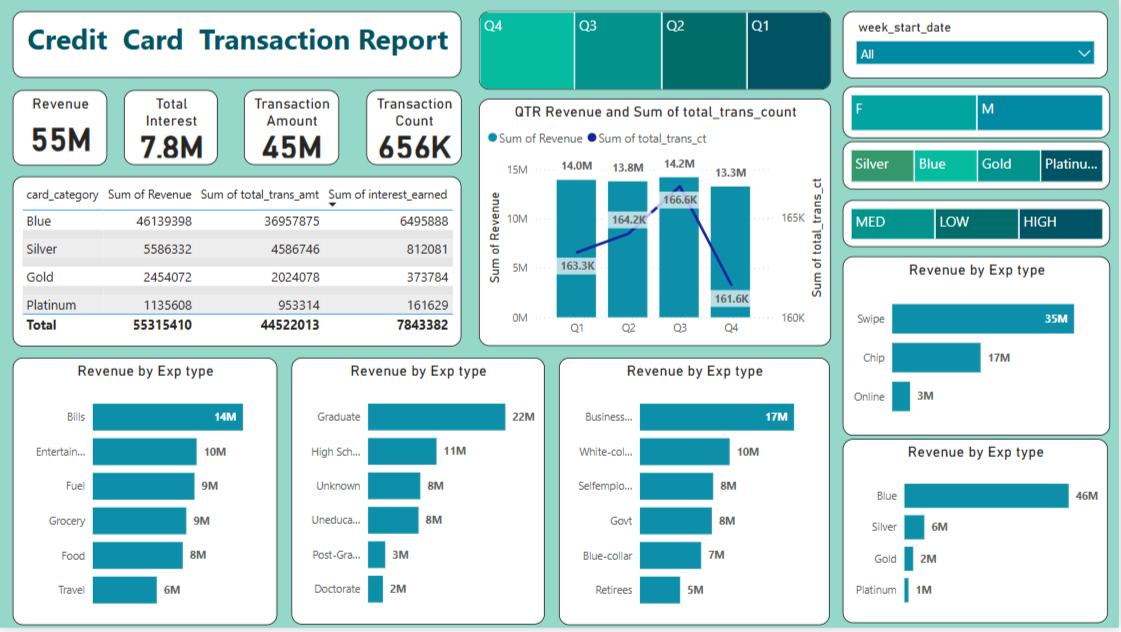

The dashboard page shown, as its layout file describes it:
{"tool":"powerbi","page":{"name":"Page 2","canvas":[1280,720],"ordinal":1},"visuals":[{"type":"textbox","box":[15.7,15.7,512.7,76],"z":0},{"type":"lineStackedColumnComboChart","title":"QTR Revenue and Sum of total_trans_count","fields":{"Category":["public cc_detail.qtr"],"Y":["Sum(public cc_detail.Revenue)"],"Y2":["Sum(public cc_detail.total_trans_ct)"]},"box":[548.2,115.4,402.5,282.8],"z":1000},{"type":"barChart","title":"Revenue by Exp type","fields":{"Y":["Sum(public cc_detail.Revenue)"],"Category":["public cc_detail.exp_type"]},"box":[15.5,411.9,302.4,306],"z":2000},{"type":"barChart","title":"Revenue by Exp type","fields":{"Y":["Sum(public cc_detail.Revenue)"],"Category":["public cust_detail.education_level"]},"box":[334.5,411.9,289.3,304.8],"z":3000},{"type":"barChart","title":"Revenue by Exp type","fields":{"Y":["Sum(public cc_detail.Revenue)"],"Category":["public cust_detail.customer_job"]},"box":[640.5,411.9,309.5,306],"z":4000},{"type":"barChart","title":"Revenue by Exp type","fields":{"Y":["Sum(public cc_detail.Revenue)"],"Category":["public cc_detail.card_category"]},"box":[963.8,505,303,210.6],"z":5000},{"type":"barChart","title":"Revenue by Exp type","fields":{"Y":["Sum(public cc_detail.Revenue)"],"Category":["public cc_detail.use_chip"]},"box":[963.8,295.8,305.9,204.9],"z":6000},{"type":"tableEx","fields":{"Values":["public cc_detail.card_category","Sum(public cc_detail.Revenue)","Sum(public cc_detail.total_trans_amt)","Sum(public cc_detail.interest_earned)"]},"box":[15.7,203.9,512.7,194.2],"z":7000},{"type":"card","title":"Revenue","fields":{"Values":["Sum(public cc_detail.Revenue)"]},"box":[15.9,105.3,108.2,86.6],"z":8000},{"type":"card","title":"Transaction Amount","fields":{"Values":["Sum(public cc_detail.total_trans_amt)"]},"box":[279.9,106.2,108.6,85.7],"z":9000},{"type":"card","title":"Total Interest","fields":{"Values":["Sum(public cc_detail.interest_earned)"]},"box":[142.4,106.2,107.4,85.7],"z":10000},{"type":"card","title":"Transaction Count","fields":{"Values":["Sum(public cc_detail.total_trans_ct)"]},"box":[419.8,106.2,108.6,85.7],"z":11000},{"type":"slicer","fields":{"Values":["public cc_detail.week_start_date"]},"box":[963.8,15.9,303,76.5],"z":12000},{"type":"treemap","fields":{"Group":["public cc_detail.qtr"],"Values":["Avg(public cc_detail.client_num)"]},"box":[548.2,15.9,402.5,89.5],"z":13000},{"type":"treemap","fields":{"Values":["Avg(public cc_detail.client_num)"],"Group":["public cust_detail.gender"]},"box":[963.8,101,305.9,59.2],"z":14000},{"type":"treemap","fields":{"Values":["Avg(public cc_detail.client_num)"],"Group":["public cc_detail.card_category"]},"box":[963.8,164.5,305.9,54.8],"z":15000},{"type":"treemap","fields":{"Values":["Avg(public cc_detail.client_num)"],"Group":["public cust_detail.Income Grp"]},"box":[963.8,230.8,305.9,53.4],"z":16000}]}

Visuals, with their boxes in screenshot pixels (x1, y1, x2, y2), scaled from the page's 1280x720 canvas onto the 1121x632 screenshot:
textbox: <box>14,14,463,80</box>
"QTR Revenue and Sum of total_trans_count" lineStackedColumnComboChart: <box>480,101,833,350</box>
"Revenue by Exp type" barChart: <box>14,362,278,630</box>
"Revenue by Exp type" barChart: <box>293,362,546,629</box>
"Revenue by Exp type" barChart: <box>561,362,832,630</box>
"Revenue by Exp type" barChart: <box>844,443,1109,628</box>
"Revenue by Exp type" barChart: <box>844,260,1112,440</box>
tableEx - public cc_detail.card_category x Sum(public cc_detail.Revenue): <box>14,179,463,349</box>
"Revenue" card: <box>14,92,109,168</box>
"Transaction Amount" card: <box>245,93,340,168</box>
"Total Interest" card: <box>125,93,219,168</box>
"Transaction Count" card: <box>368,93,463,168</box>
slicer - public cc_detail.week_start_date: <box>844,14,1109,81</box>
treemap - public cc_detail.qtr x Avg(public cc_detail.client_num): <box>480,14,833,93</box>
treemap - Avg(public cc_detail.client_num) x public cust_detail.gender: <box>844,89,1112,141</box>
treemap - Avg(public cc_detail.client_num) x public cc_detail.card_category: <box>844,144,1112,192</box>
treemap - Avg(public cc_detail.client_num) x public cust_detail.Income Grp: <box>844,203,1112,249</box>
